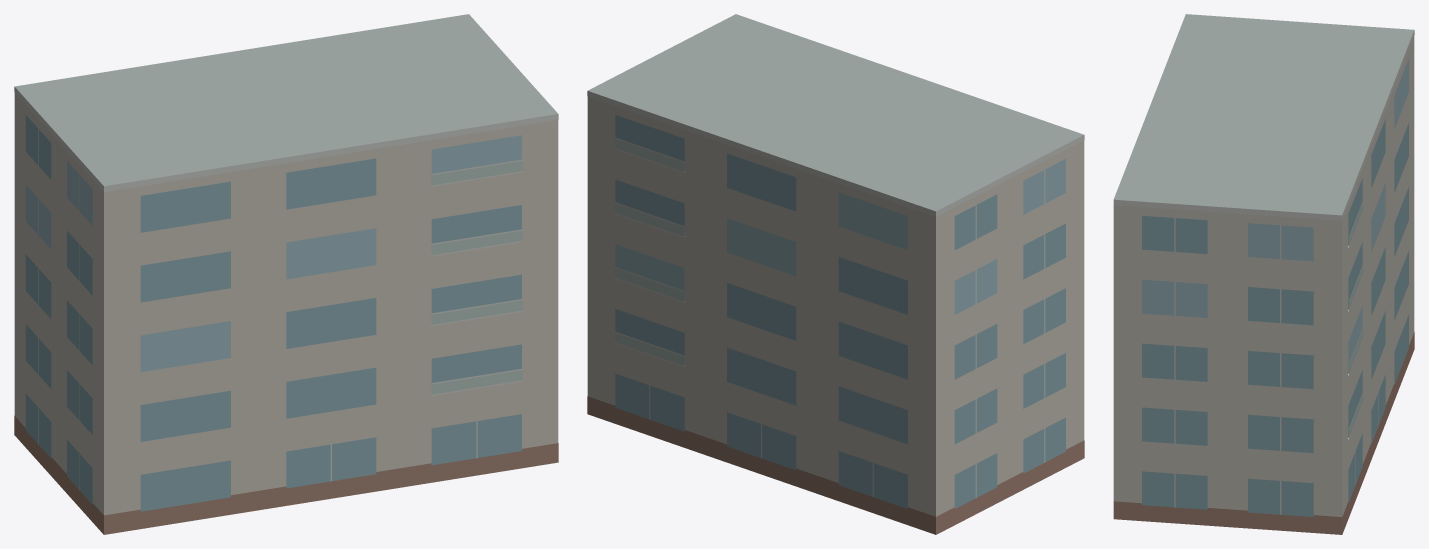
Rendered from survey-upis-32558288.glb.
The picture shows the model from 3 angles, left to right: view 1: azimuth 30°, elevation 25°; view 2: azimuth 150°, elevation 25°; view 3: azimuth 270°, elevation 25°; orthographic projection. The views are drawn at different scales.
Parts seen in each view (by area): view 1: survey-upis-32558288.tmp; view 2: survey-upis-32558288.tmp; view 3: survey-upis-32558288.tmp.
Boxes of the visible parts, box(x1,y1,x2,y2) form: survey-upis-32558288.tmp: box(14, 14, 558, 534); survey-upis-32558288.tmp: box(587, 14, 1084, 534); survey-upis-32558288.tmp: box(1113, 14, 1414, 534).
Size of the model in its own units: 19.34 by 14.3 by 12.22.
